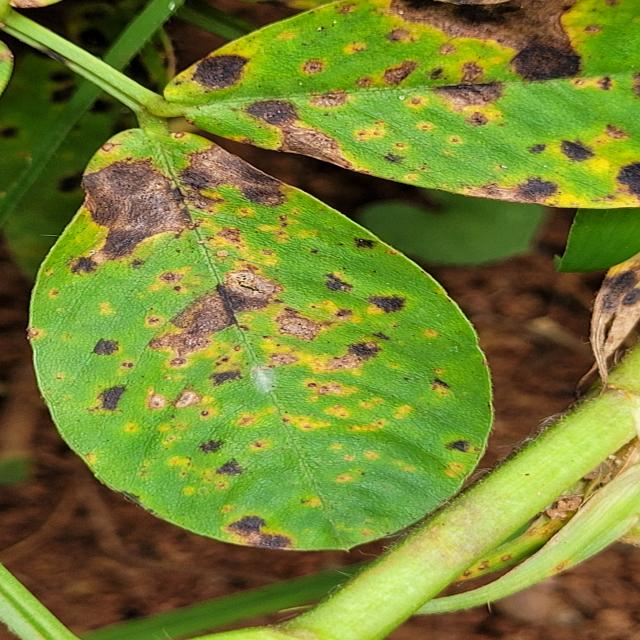Ground nut_tikka leaf spot: (23, 118, 502, 547), (167, 0, 640, 209)
